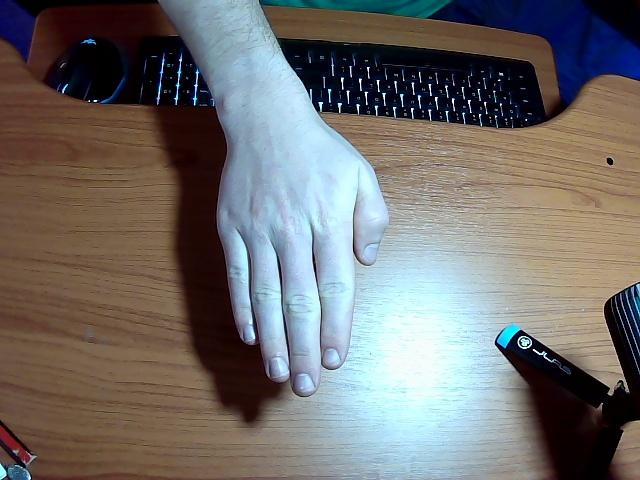paper: (161, 0, 388, 395)
